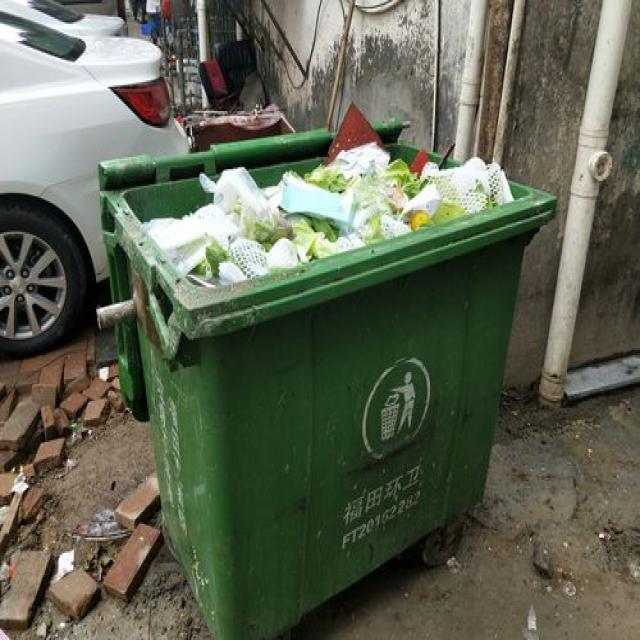overflow: (94, 101, 556, 638)
